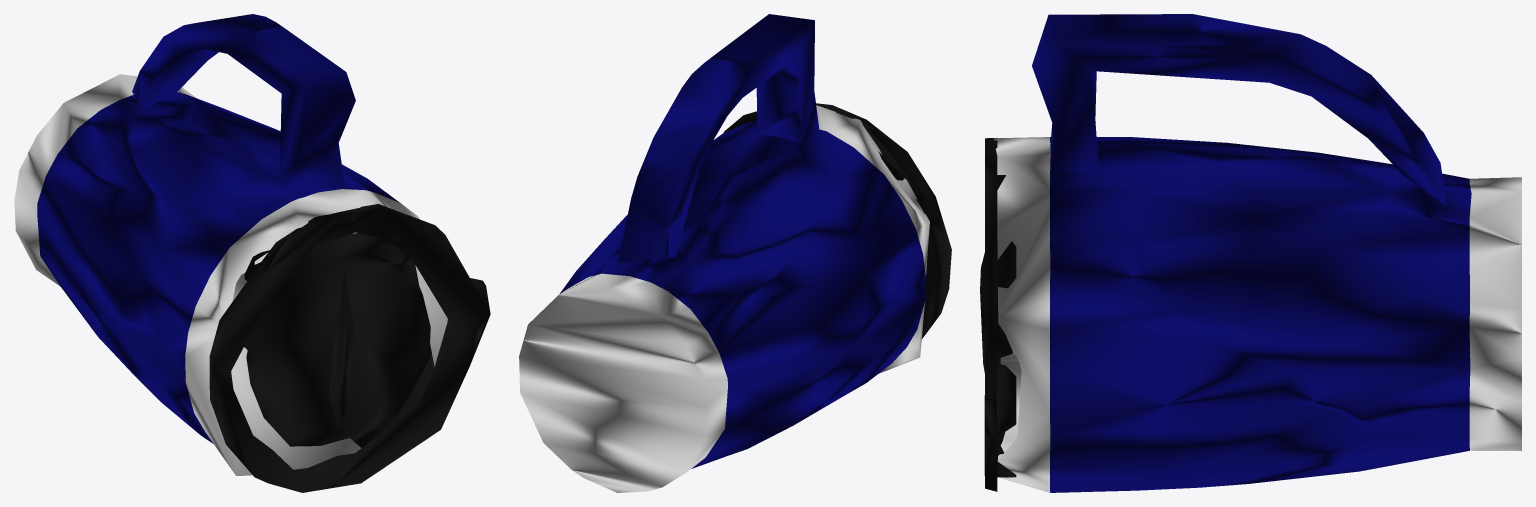
The model's file is model_align.obj.
The picture shows the model from 3 angles, left to right: view 1: azimuth 30°, elevation 25°; view 2: azimuth 150°, elevation 25°; view 3: azimuth 270°, elevation 25°; orthographic projection. The views are drawn at different scales.
Bounding box in the file's own units: 0.072 × 0.0959 × 0.1037.
